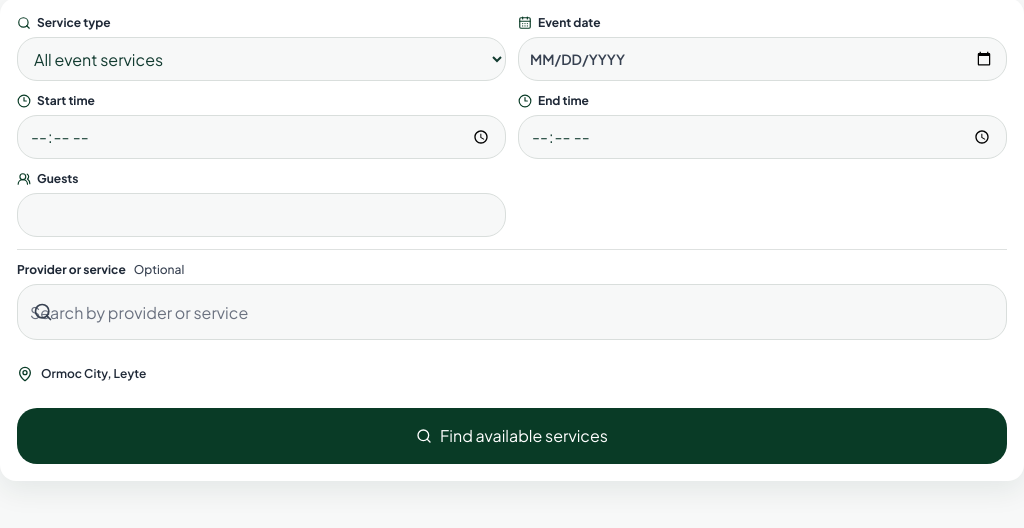
Test: customer home event planning › blocks an invalid time range
Select "Catering" in the dropdown labelled "Service type": (262, 59) [17,37,506,81]
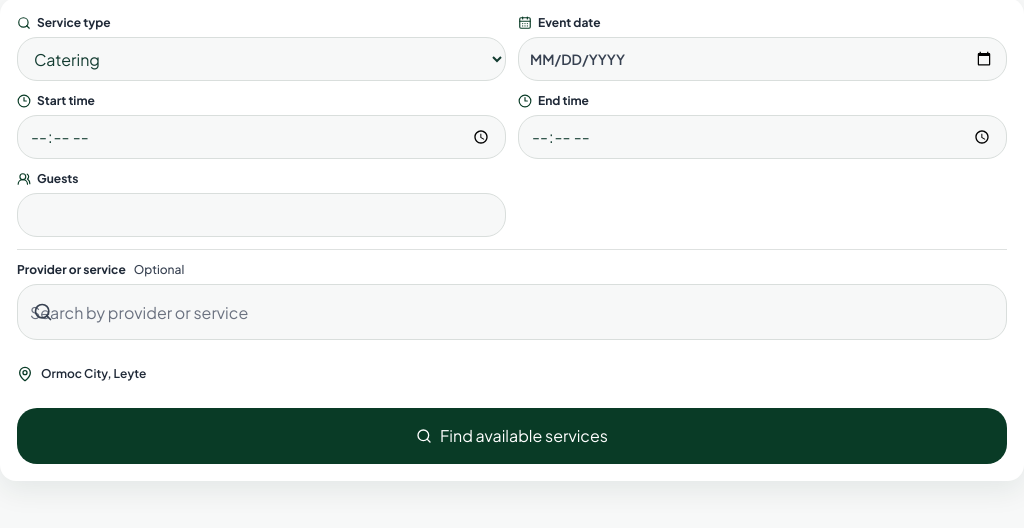
In the date field labelled "Event date": (762, 59) [518,37,1007,81], type "2026-09-10"
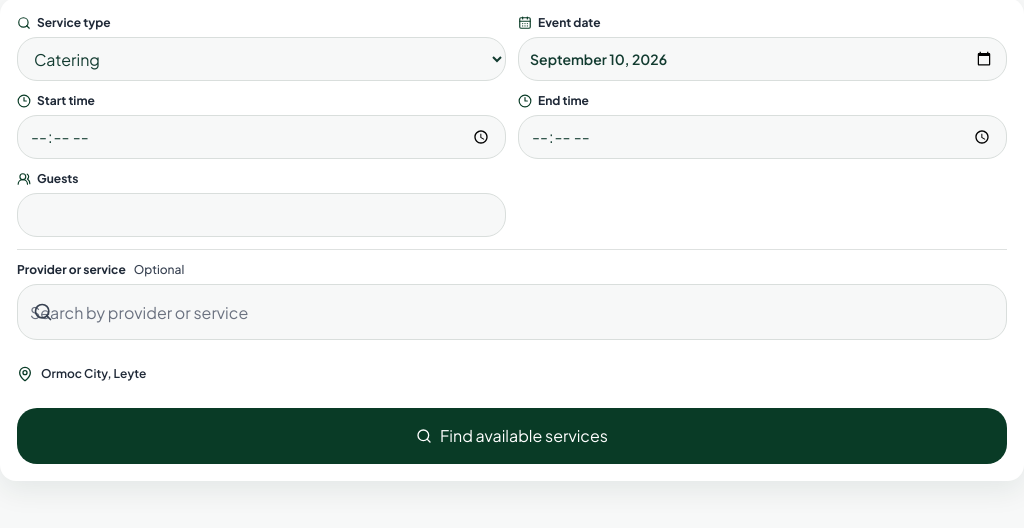
In the time field labelled "Start time": (262, 137) [17,115,506,159], type "18:00"
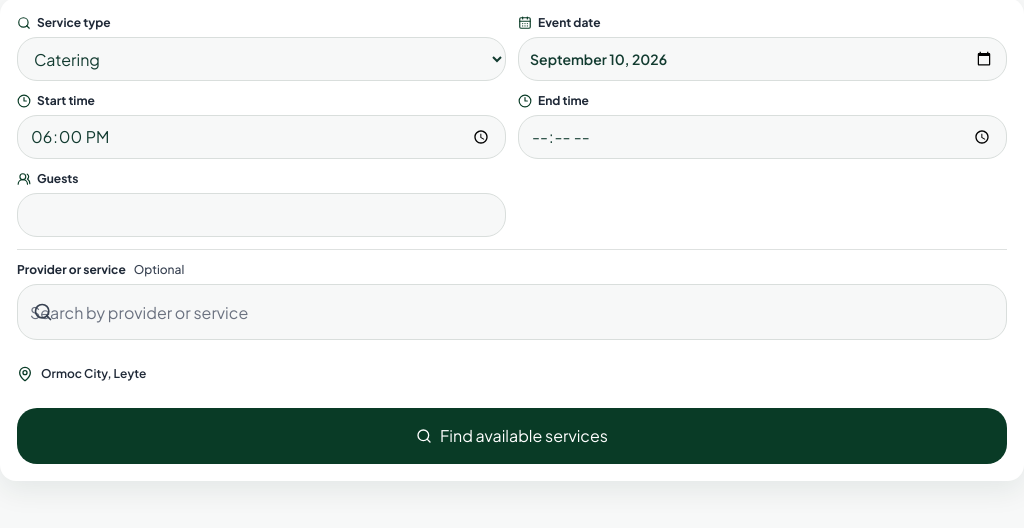
In the time field labelled "End time": (762, 137) [518,115,1007,159], type "17:00"
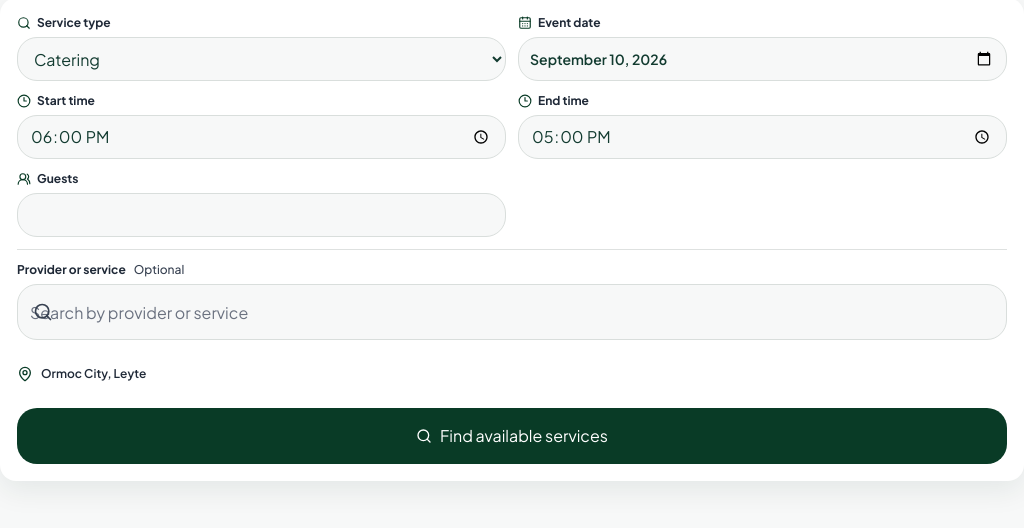
In the number field labelled "Guests": (262, 215) [17,193,506,237], type "100"
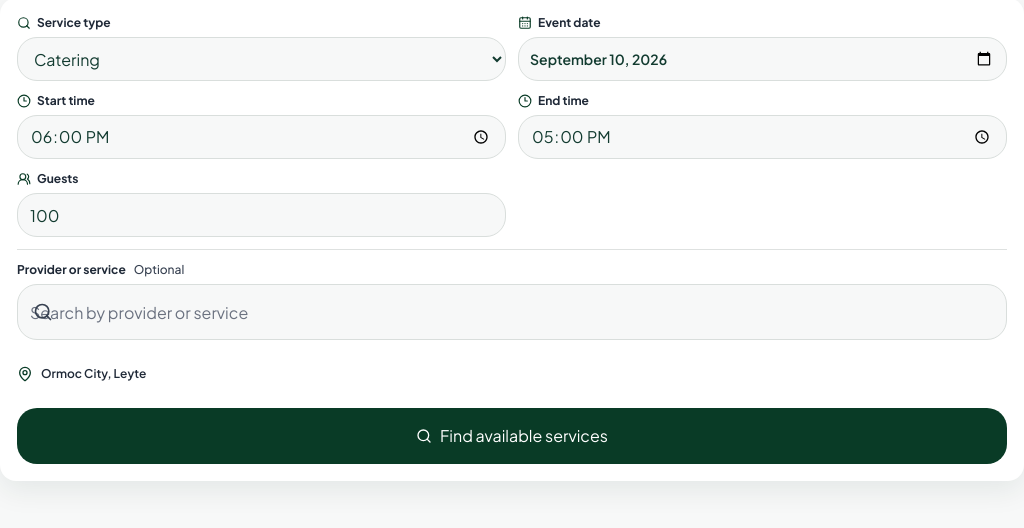
Click the button "Find available services": (512, 436) [17,408,1007,464]
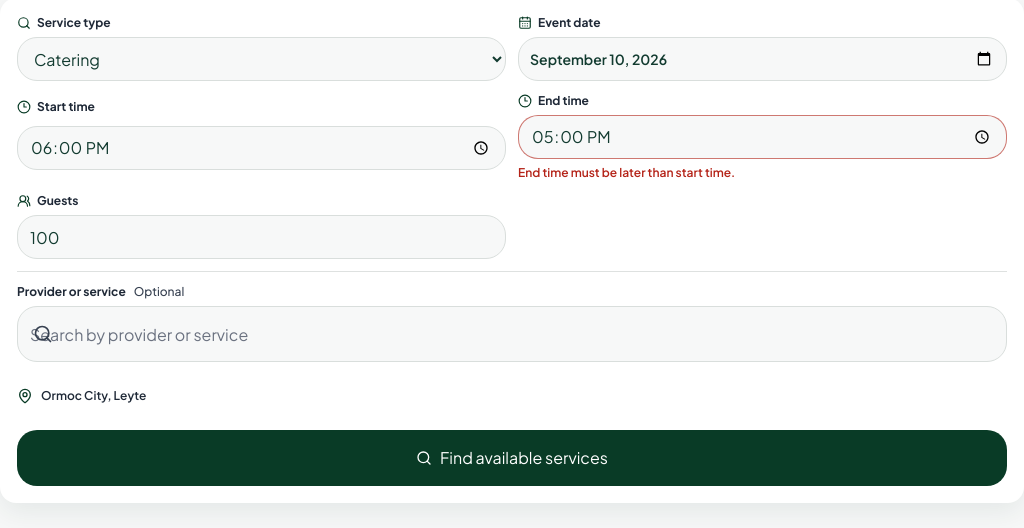
Result: the text "End time must be later than start time." is shown at [518,165,735,180]
